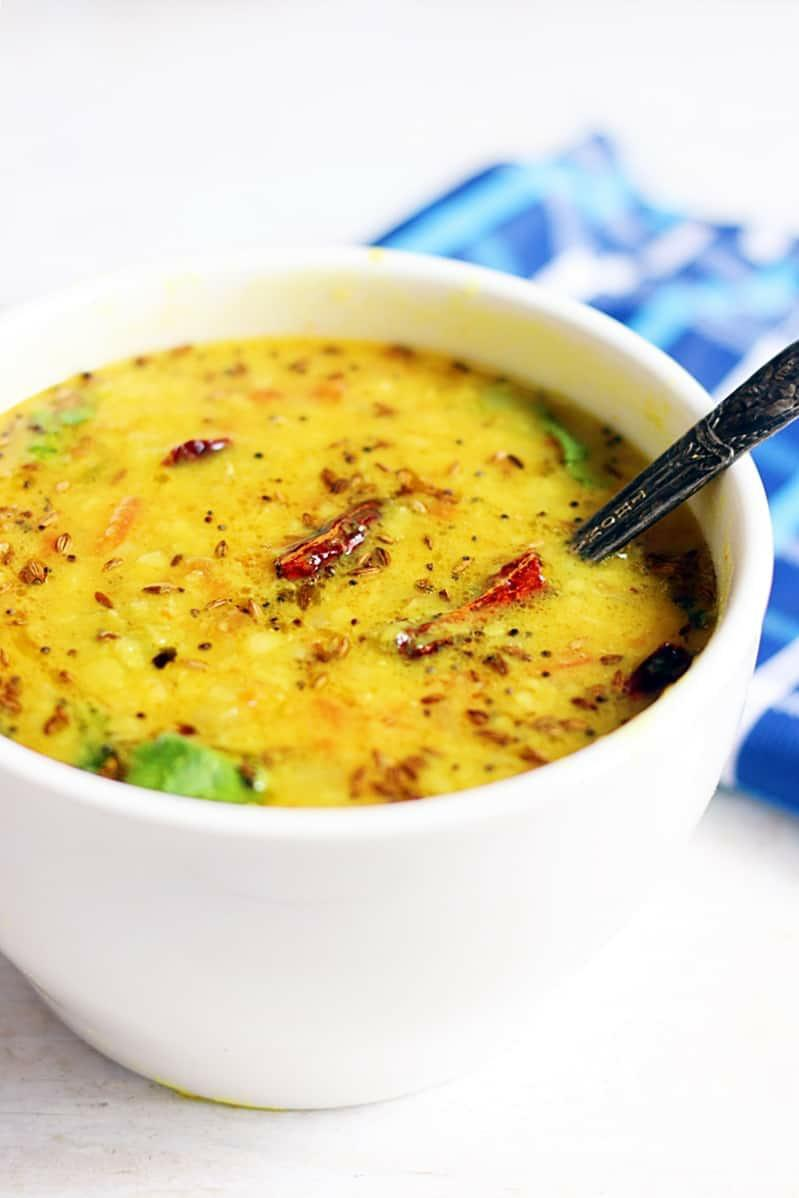Dal: (0, 333, 716, 809)
